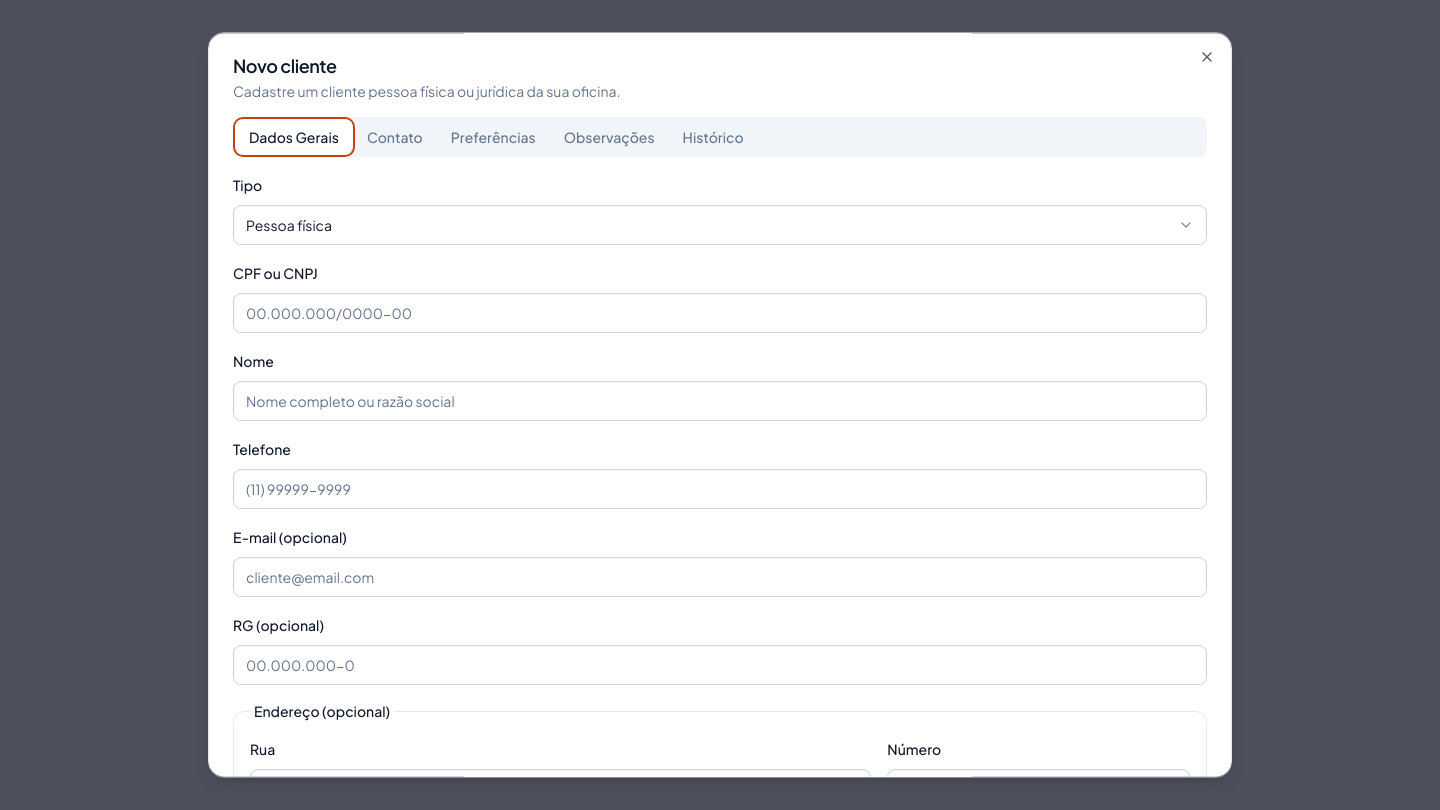
it: CustomerFormModal › keeps values entered in one tab after switching to another and back (Edge Case 5)
Type "Maria Souza" into the field labelled "Nome". click: [720, 401]
box: [233, 381, 1207, 421]
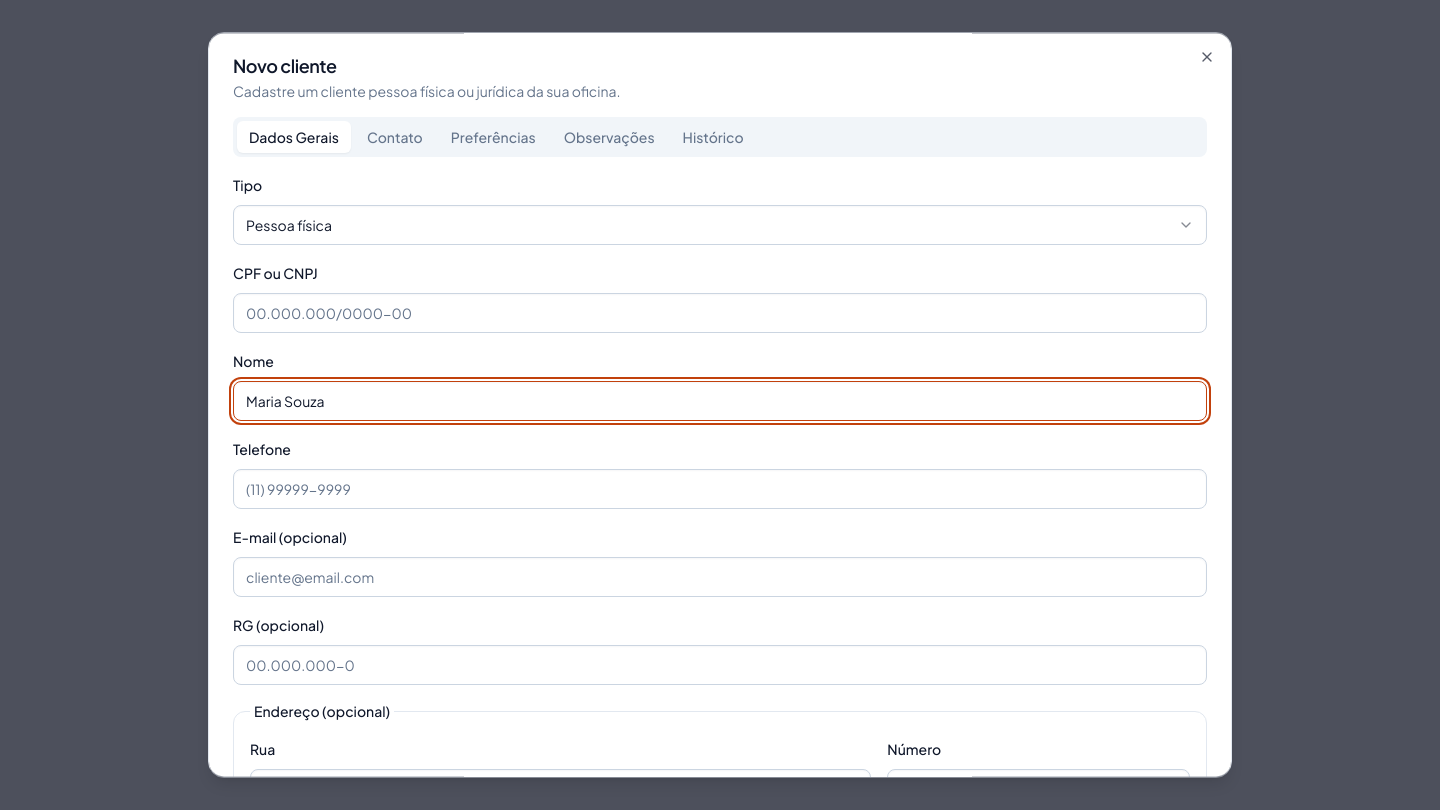
Click the tab "Contato". click: [395, 137]
box: [355, 121, 435, 153]
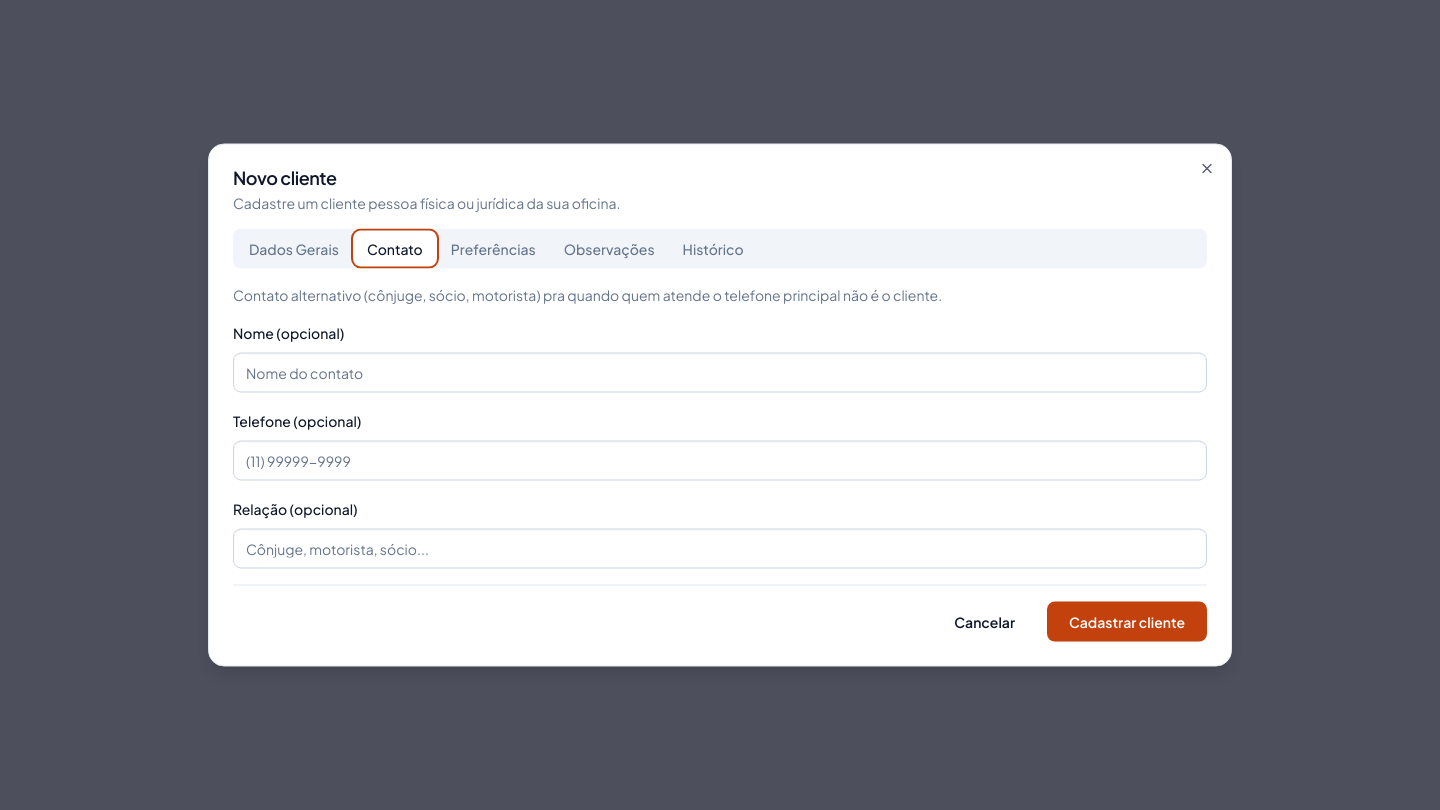
Type "José Souza" into the field labelled "Nome (opcional)". click: [720, 372]
box: [233, 352, 1207, 392]
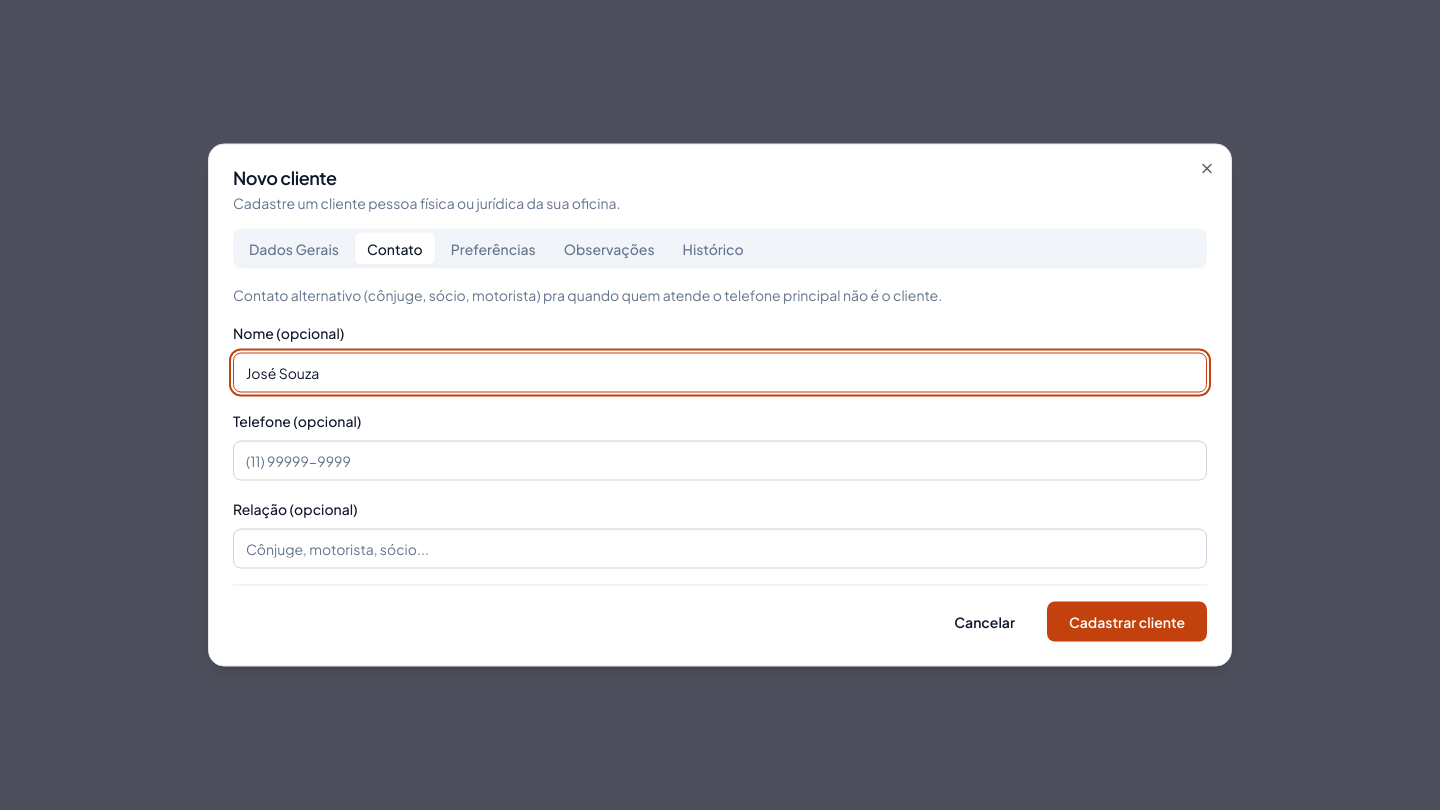
Click the tab "Dados Gerais". click: [294, 248]
box: [237, 232, 351, 264]
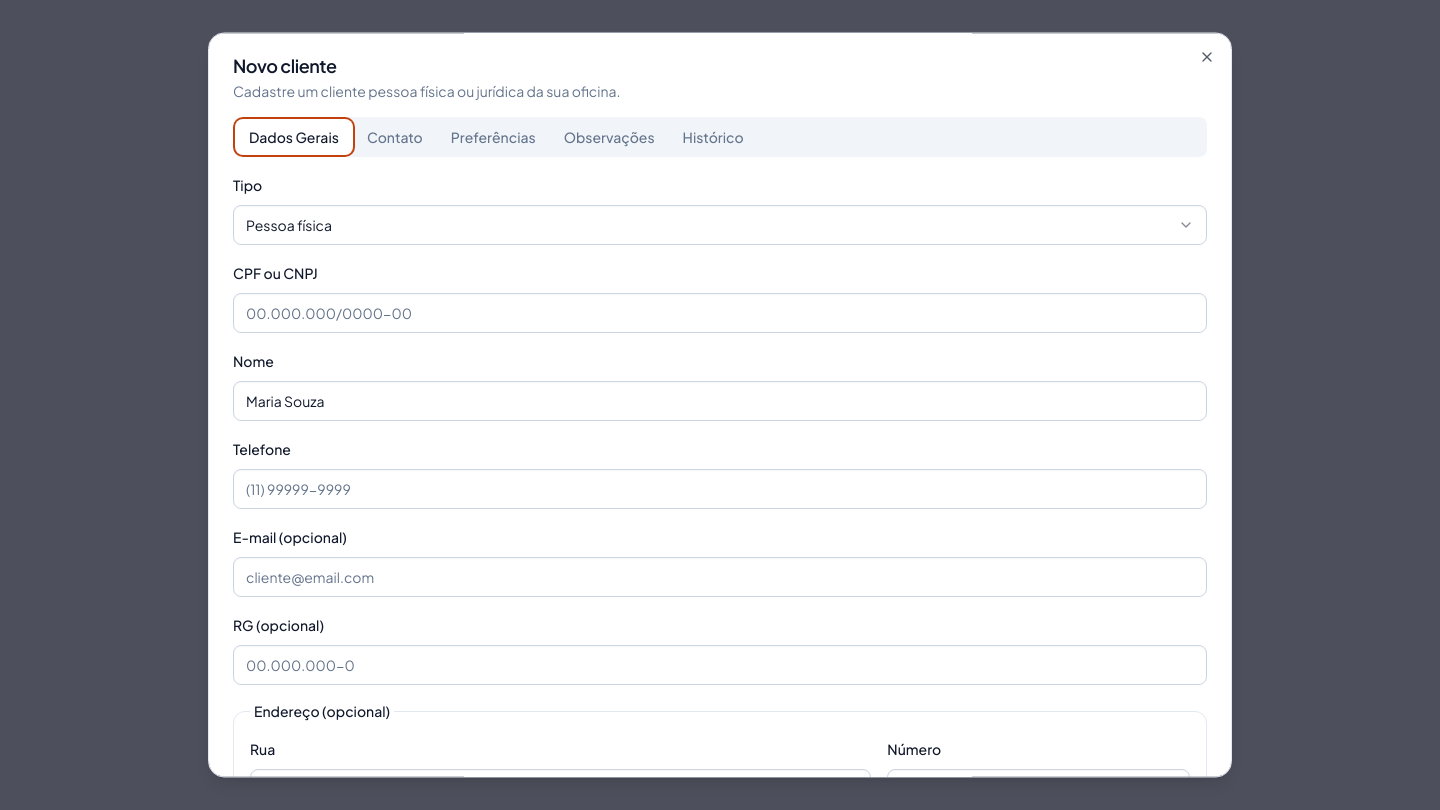
Result: the field labelled "Nome" holds "Maria Souza" at [233, 381, 1207, 421]
Click the tab "Contato". click: [395, 137]
box: [355, 121, 435, 153]
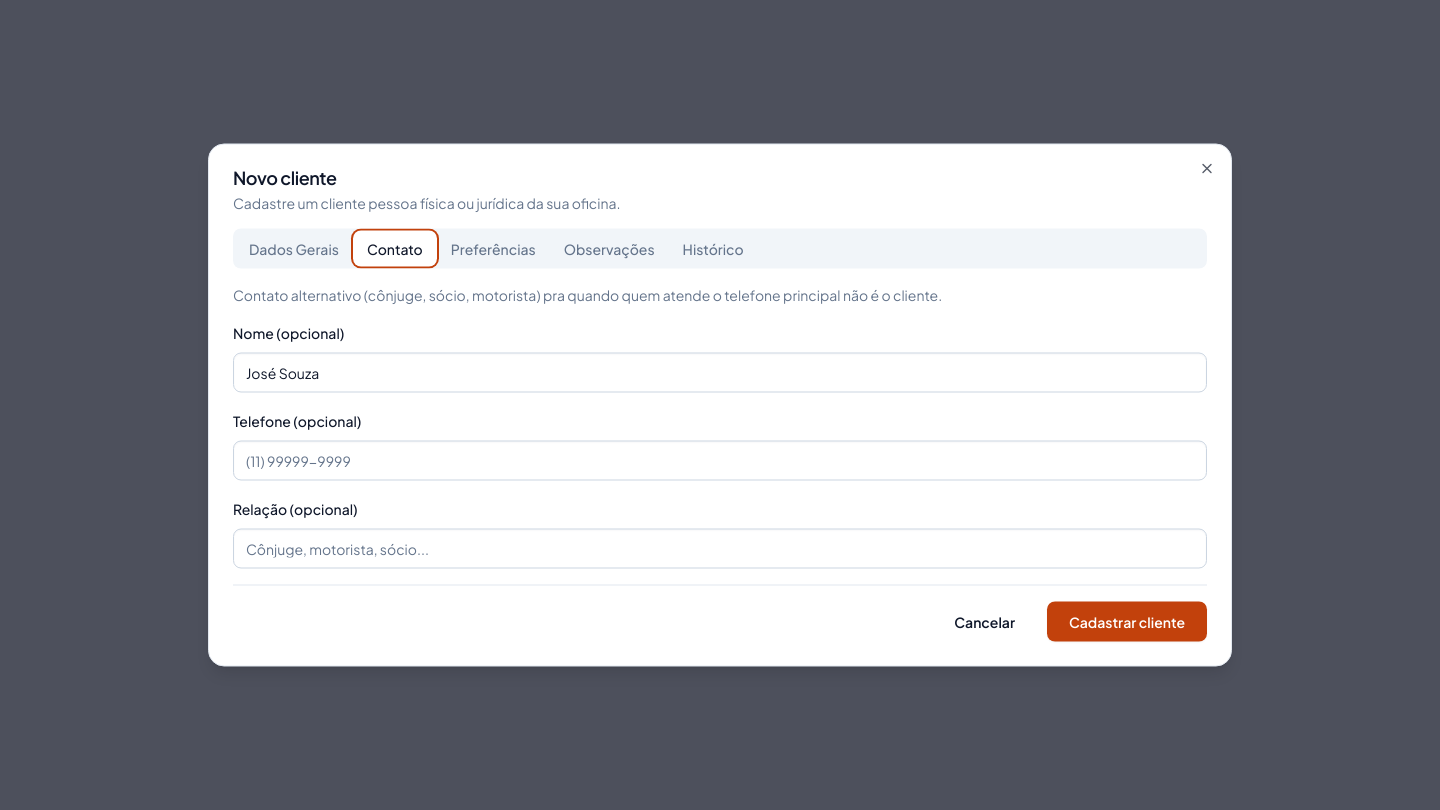
Result: the field labelled "Nome (opcional)" holds "José Souza" at [233, 352, 1207, 392]
